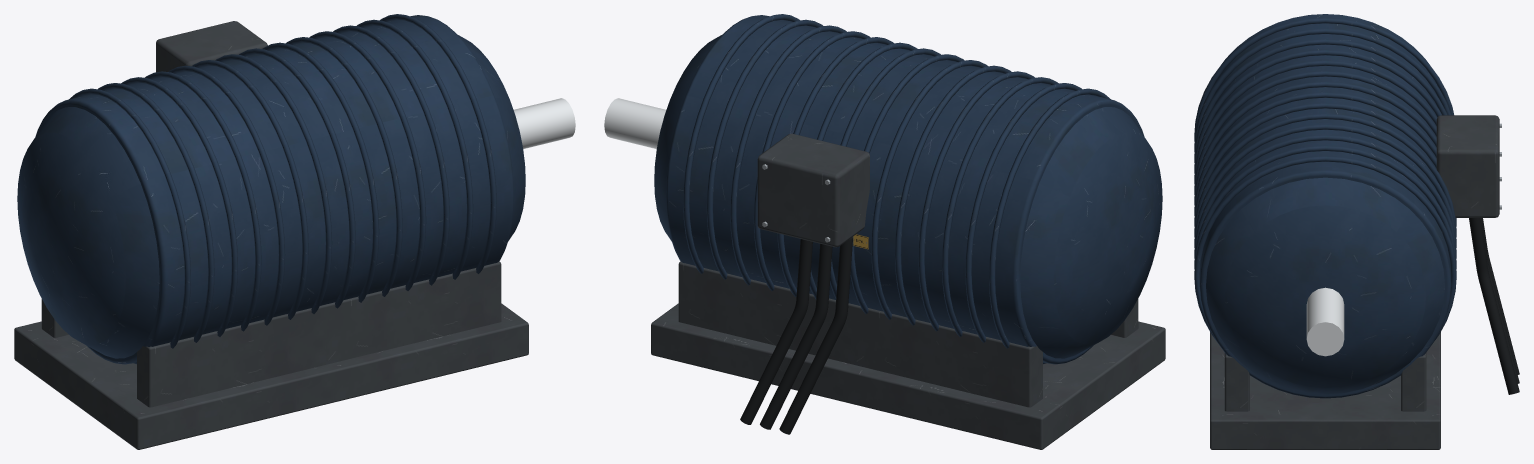
The model's file is MotorP.glb.
3 renders of one model, left to right at view 1: azimuth 30°, elevation 25°; view 2: azimuth 150°, elevation 25°; view 3: azimuth 270°, elevation 25°, orthographic. The views are drawn at different scales.
Visible parts, largest first — view 1: MotorP_Body, MotorP_Shaft; view 2: MotorP_Body, MotorP_Shaft; view 3: MotorP_Body, MotorP_Shaft.
Part boxes in pixels (x1,y1,x2,y2): MotorP_Body: (14,14,528,449); MotorP_Shaft: (513,98,575,148); MotorP_Body: (651,14,1165,449); MotorP_Shaft: (604,98,666,148); MotorP_Body: (1194,14,1519,449); MotorP_Shaft: (1306,287,1344,356).
Bounding box in the file's own units: 2.62 × 1.48 × 1.55.
Materials: 7 (3 with a texture image).
